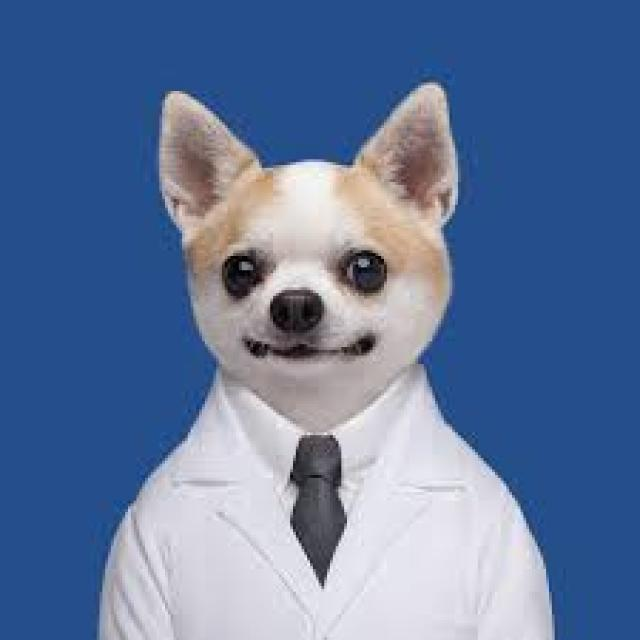Chihuahua: (161, 85, 462, 372)
